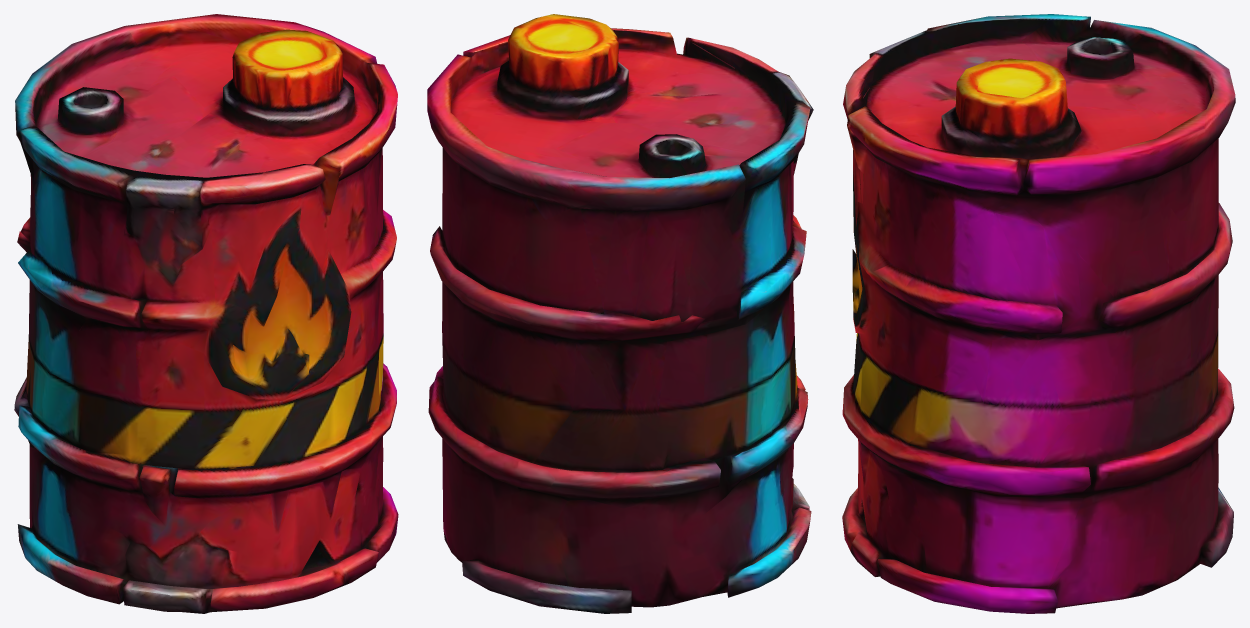
File: GW_INT_barrel_explosive.glb
The picture shows the model from 3 angles, left to right: view 1: azimuth 30°, elevation 25°; view 2: azimuth 150°, elevation 25°; view 3: azimuth 270°, elevation 25°; orthographic projection. The views are drawn at different scales.
Parts seen in each view (by area): view 1: tripo_node_e571975d-2164-4728-9c6c-45265ec7b48e; view 2: tripo_node_e571975d-2164-4728-9c6c-45265ec7b48e; view 3: tripo_node_e571975d-2164-4728-9c6c-45265ec7b48e.
Part boxes in pixels (left/top/right/bottom): tripo_node_e571975d-2164-4728-9c6c-45265ec7b48e: left=14, top=14, right=398, bottom=613; tripo_node_e571975d-2164-4728-9c6c-45265ec7b48e: left=427, top=14, right=813, bottom=613; tripo_node_e571975d-2164-4728-9c6c-45265ec7b48e: left=842, top=14, right=1235, bottom=613.
Size of the model in its own units: 0.7306 by 1 by 0.7239.
Materials: 1 (1 with a texture image).
